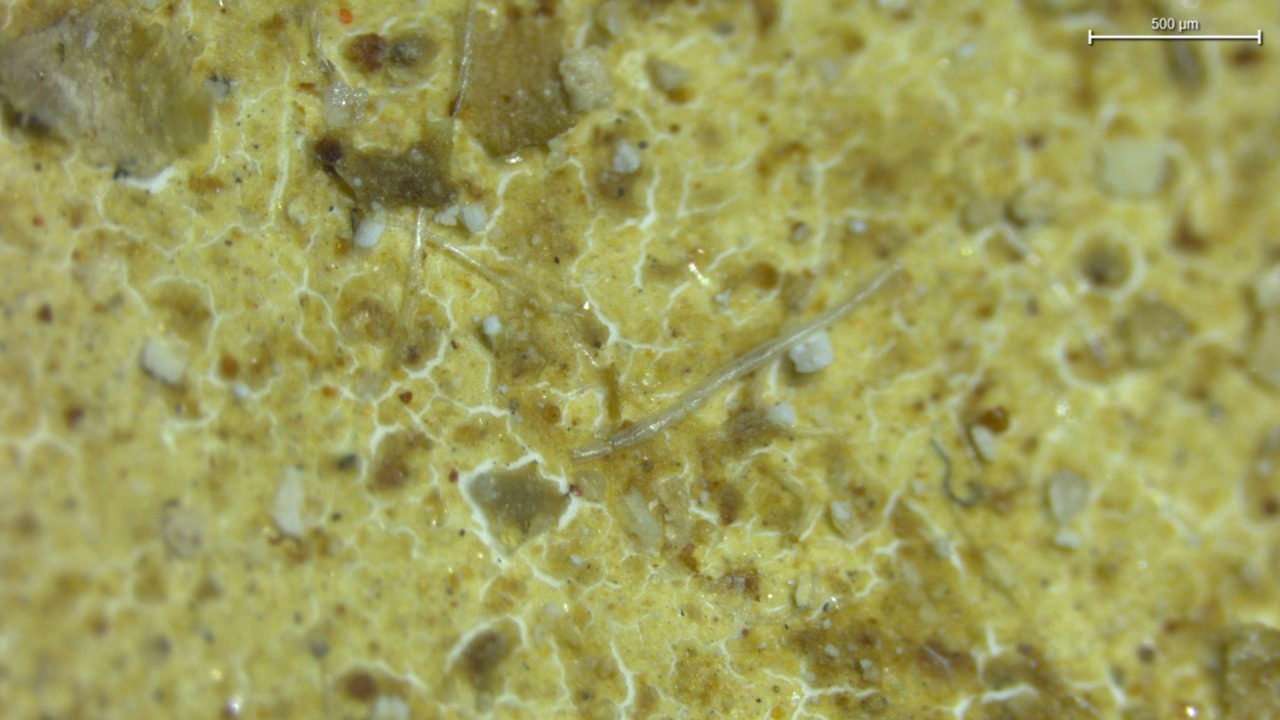microplastic_fragment: (788, 330, 833, 373)
